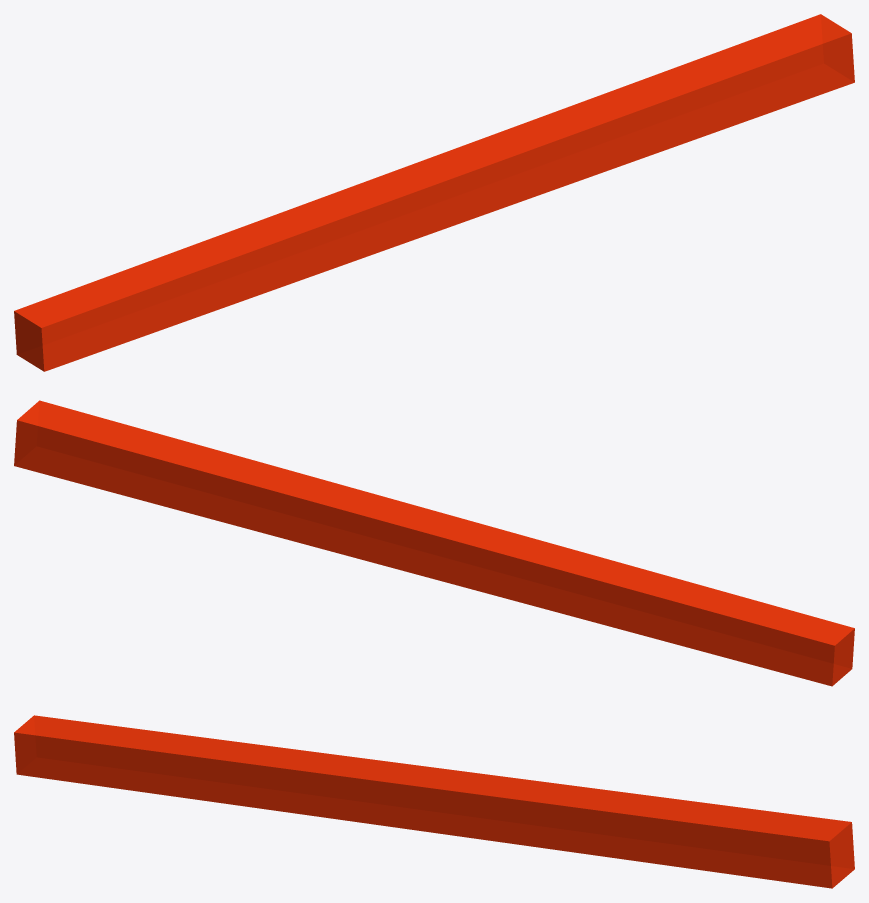
File: Event_421364160_EErechit_45.fbx
The picture shows the model from 3 angles, top to bottom: view 1: azimuth 30°, elevation 25°; view 2: azimuth 150°, elevation 25°; view 3: azimuth 330°, elevation 25°; orthographic projection. The views are drawn at different scales.
Parts seen in each view (by area): view 1: Model; view 2: Model; view 3: Model.
Boxes of the visible parts, x1=… form: Model: x1=14, y1=14, x2=854, y2=371; Model: x1=14, y1=400, x2=854, y2=686; Model: x1=14, y1=715, x2=854, y2=888.
Bounding box in the file's own units: 1.45 × 0.1768 × 0.1811.
